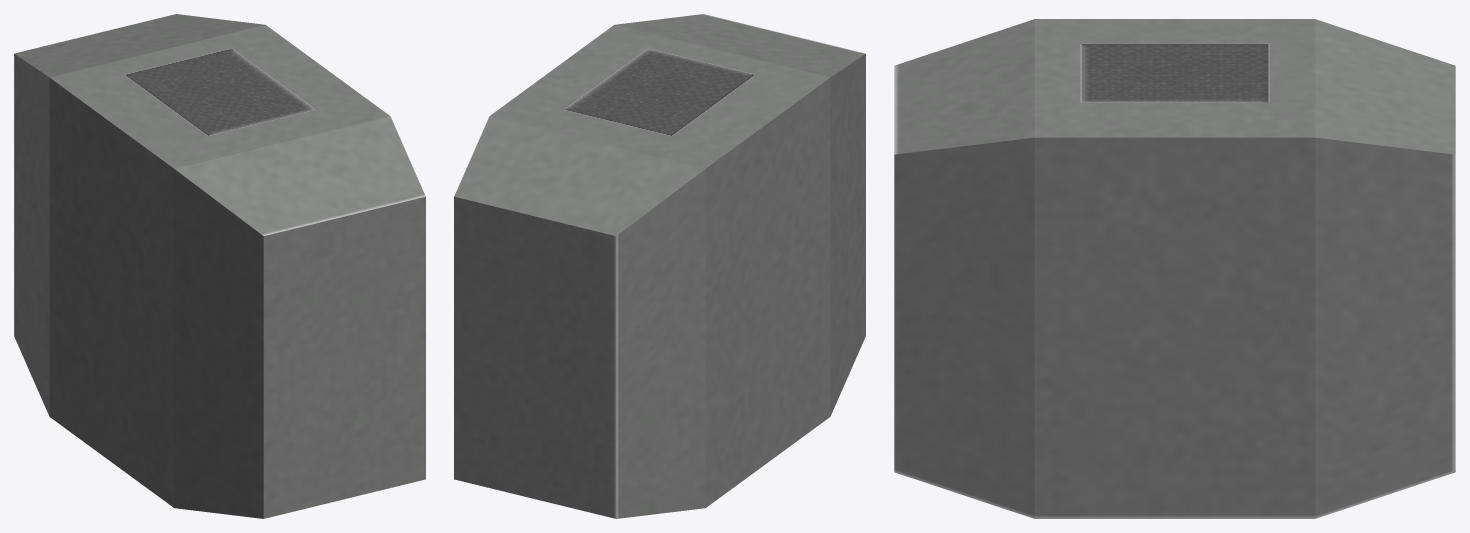
File: mono_rail_curved.obj
3 views of the same model, side by side, from view 1: azimuth 30°, elevation 25°; view 2: azimuth 150°, elevation 25°; view 3: azimuth 270°, elevation 25° (orthographic). The views are drawn at different scales.
Visible parts, largest first — view 1: 0, 1; view 2: 0, 1; view 3: 0, 1.
Part boxes in pixels (bbox=[...]): 0: bbox=[14, 14, 425, 518]; 1: bbox=[125, 48, 315, 135]; 0: bbox=[454, 14, 865, 518]; 1: bbox=[564, 48, 754, 135]; 0: bbox=[894, 19, 1455, 518]; 1: bbox=[1080, 43, 1269, 102].
Size of the model in its own units: 0.5 by 0.76 by 1.
